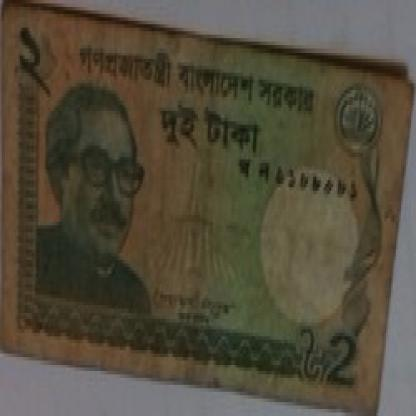two taka: (148, 94, 268, 173), (22, 3, 66, 114), (321, 302, 365, 392)
